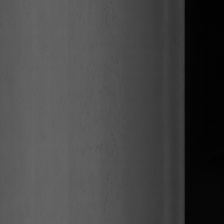silk_spot: (77, 51, 125, 174)
